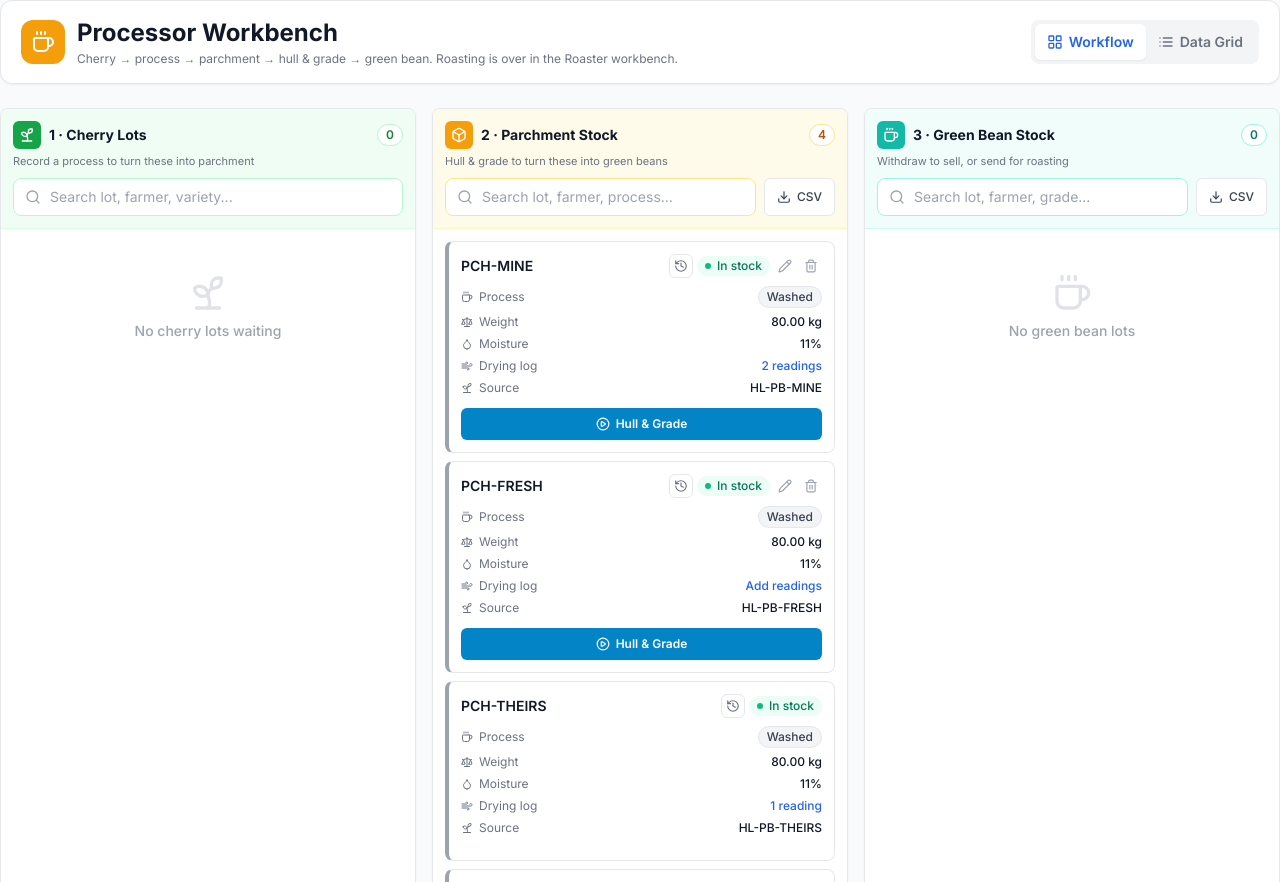
Workbench drying log › shows a save failure in the popup and keeps the typed reading
The width and height of the screenshot is (1280, 882).
Click the button "Add readings" at (784, 586), box [746,578,822,594]
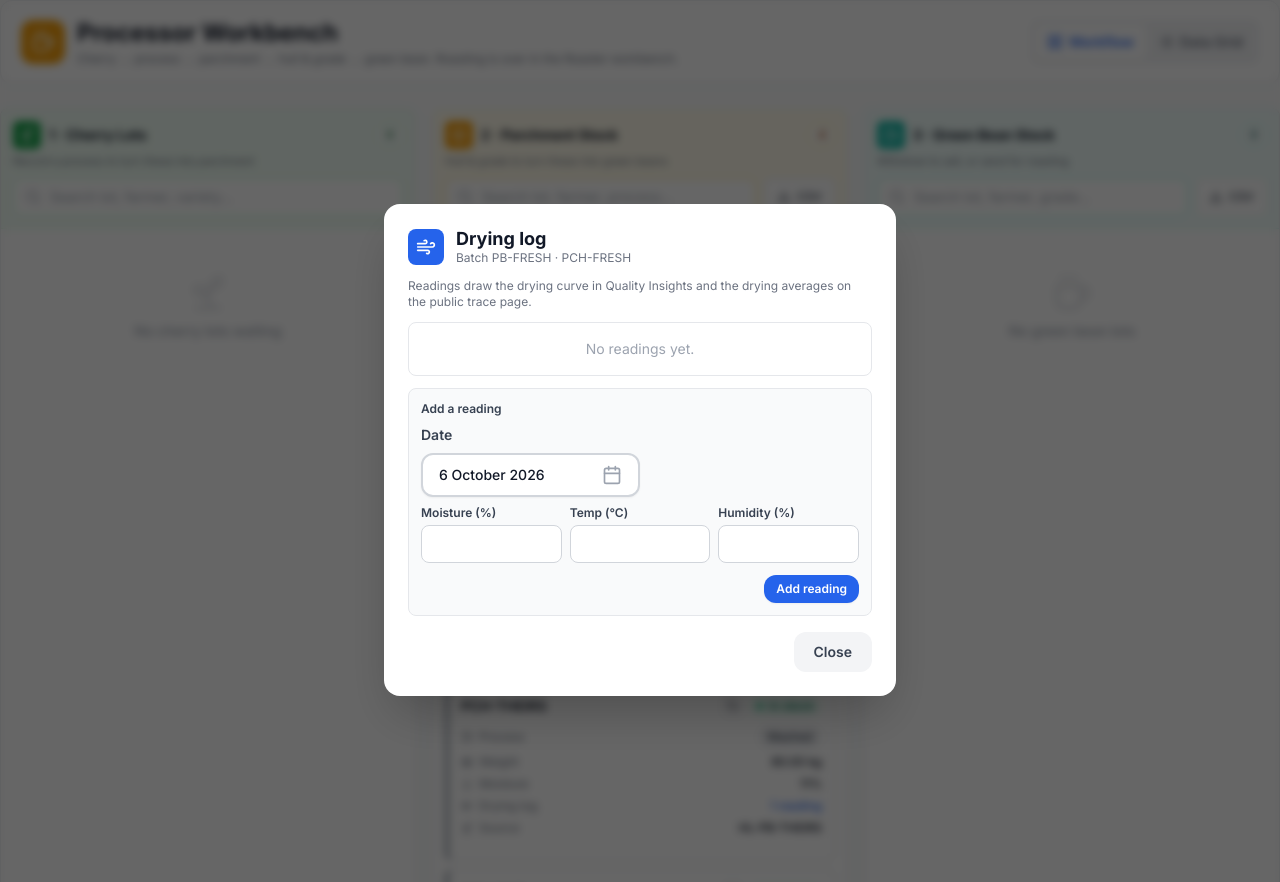
Type "12" into the number field labelled "Moisture (%)" at (491, 544), box [421,525,562,563]
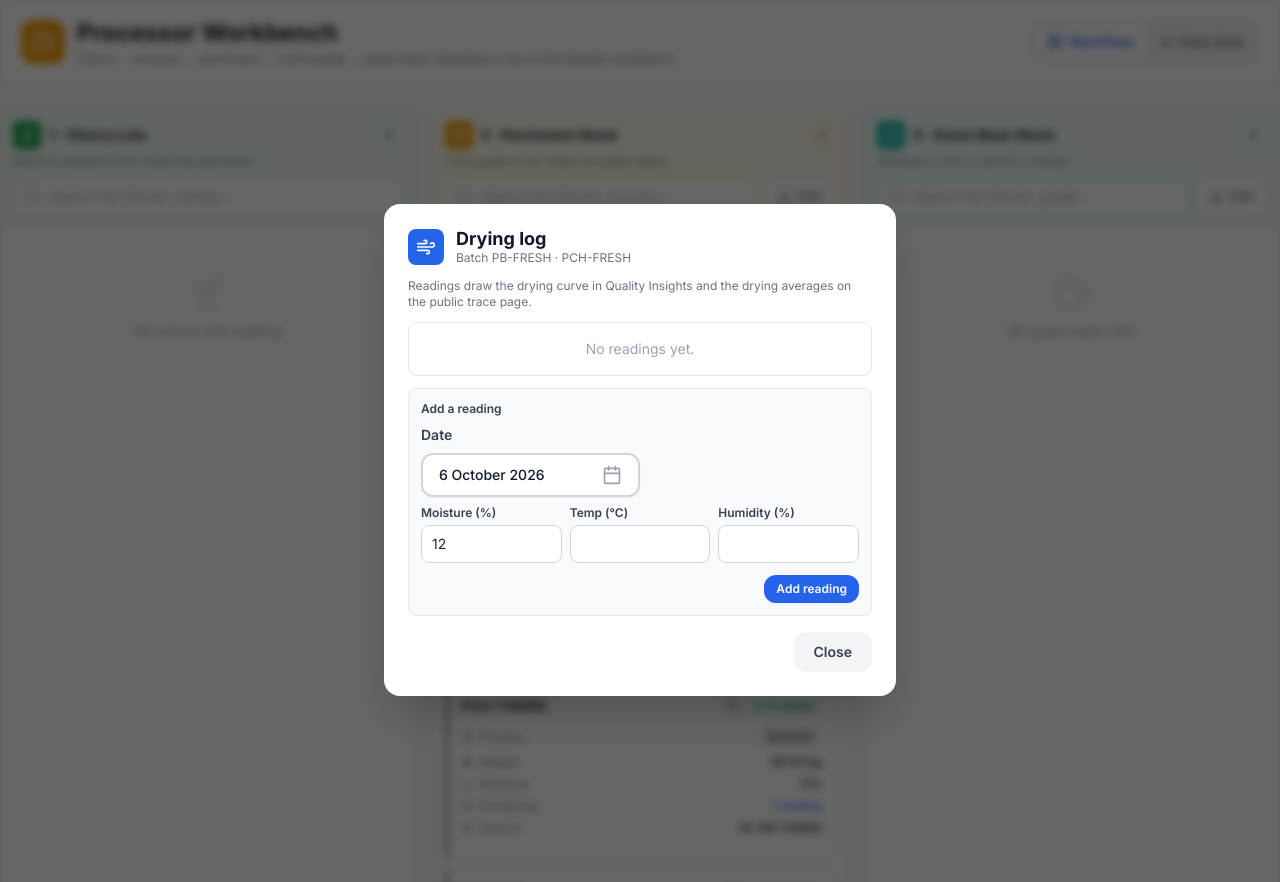
Type "29" into the number field labelled "Temp (°C)" at (640, 544), box [570,525,710,563]
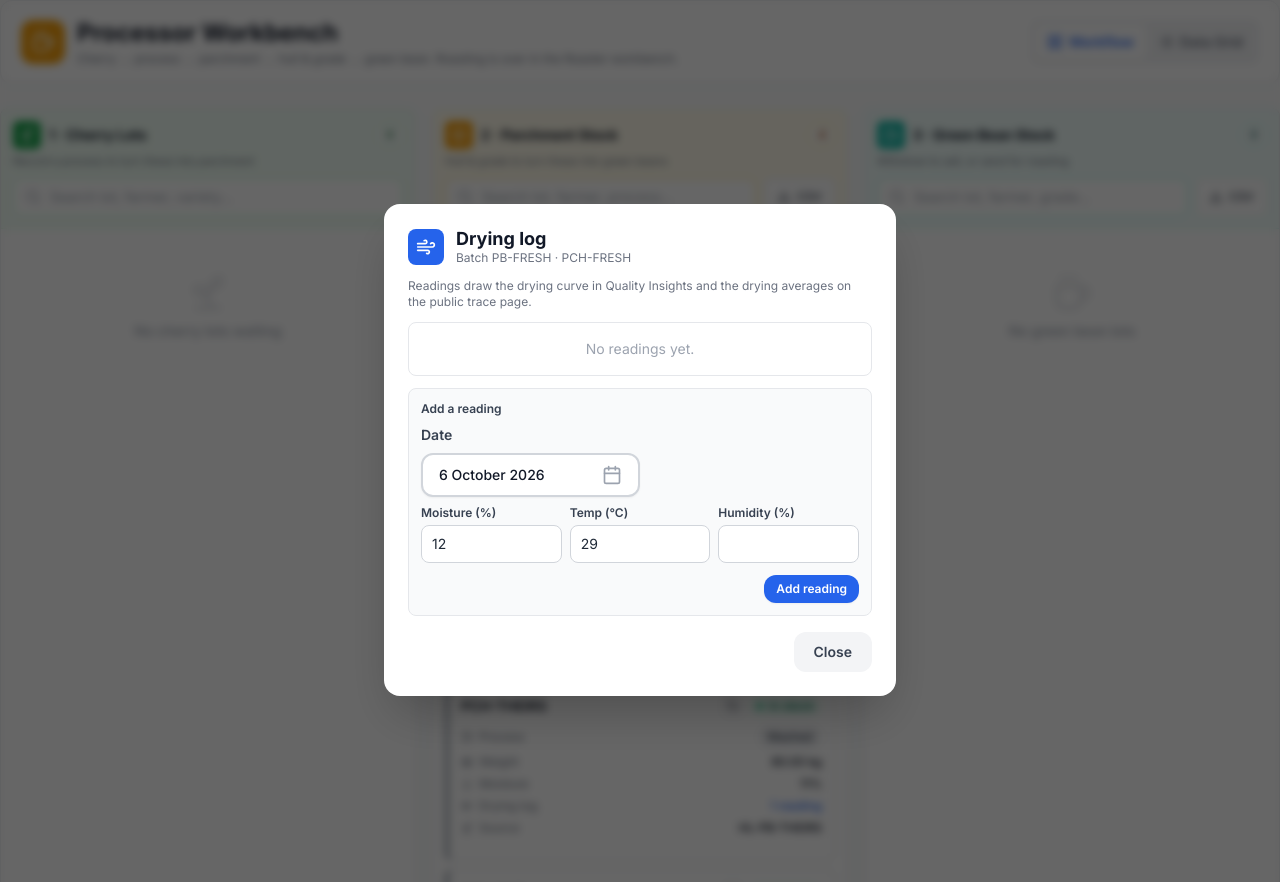
Type "60" into the number field labelled "Humidity (%)" at (789, 544), box [718,525,859,563]
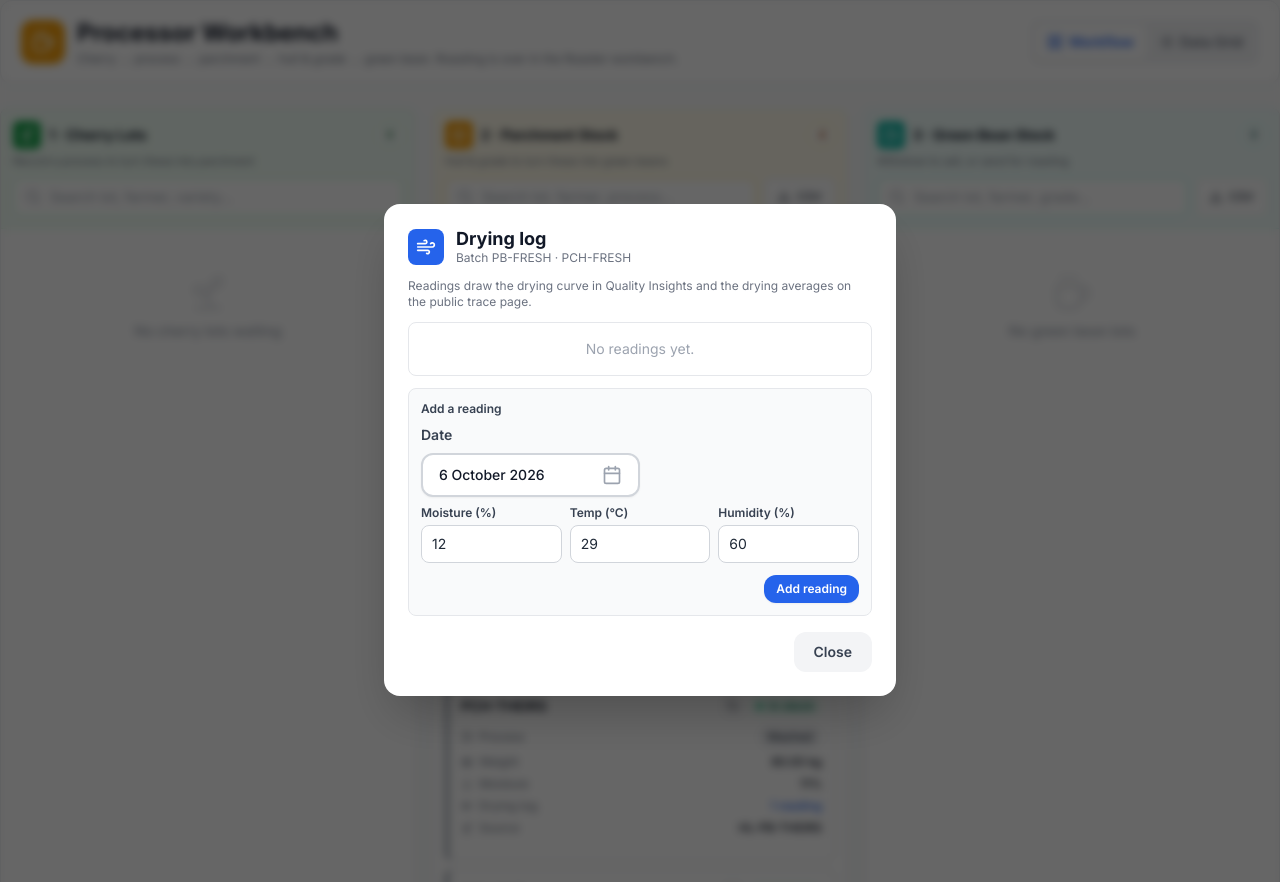
Click the button "Add reading" at (812, 589), box [764,575,859,603]
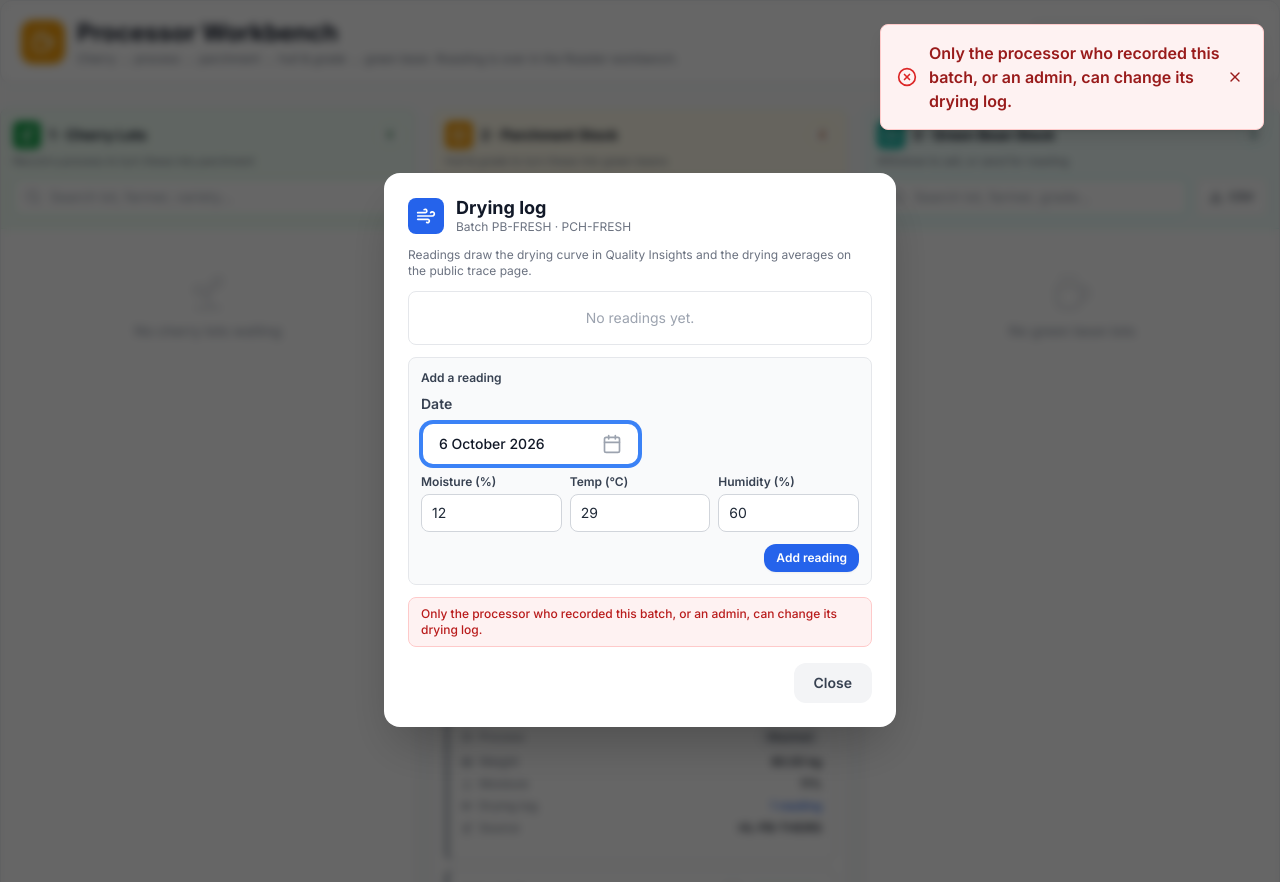
Expected: the message shows "Only the processor who recorded this batch, or an admin, can change its drying log.", [421,606,837,637]
